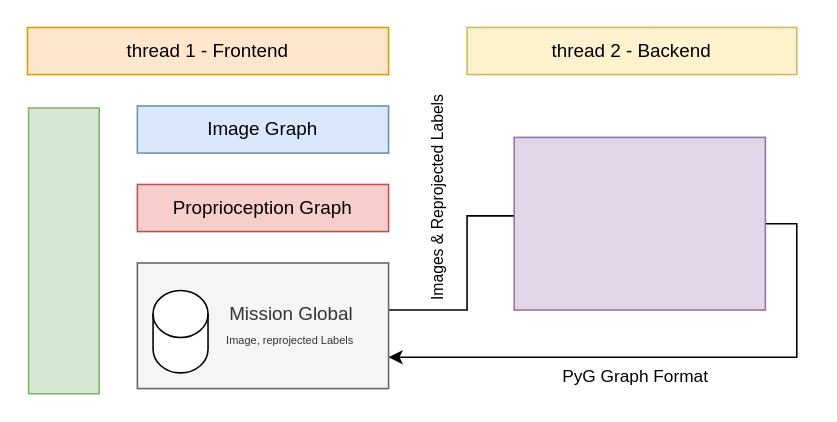
Some shapes in this 837 by 422 pixel diagram are drawn without their labels. The centre of each missing label's shape, as x and y in pixels:
DINO (Images to Features) generate GNN format: pixel 639 223
wvn_node: pixel 63 250
